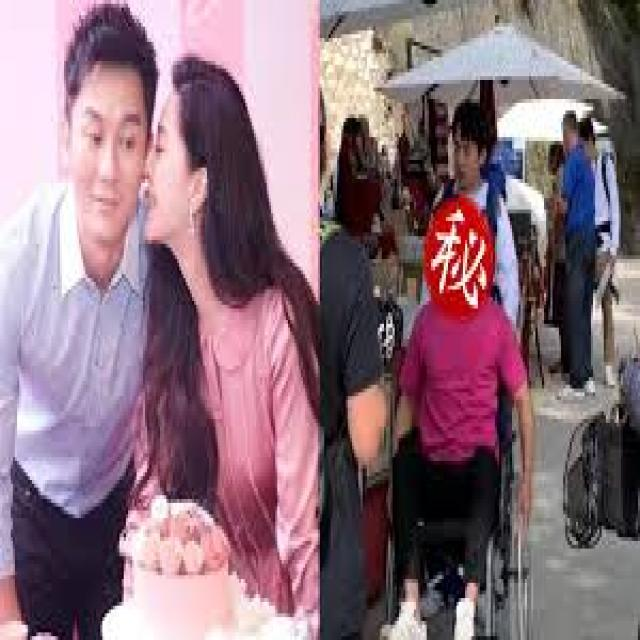wheelchairs: (376, 316, 546, 636)
